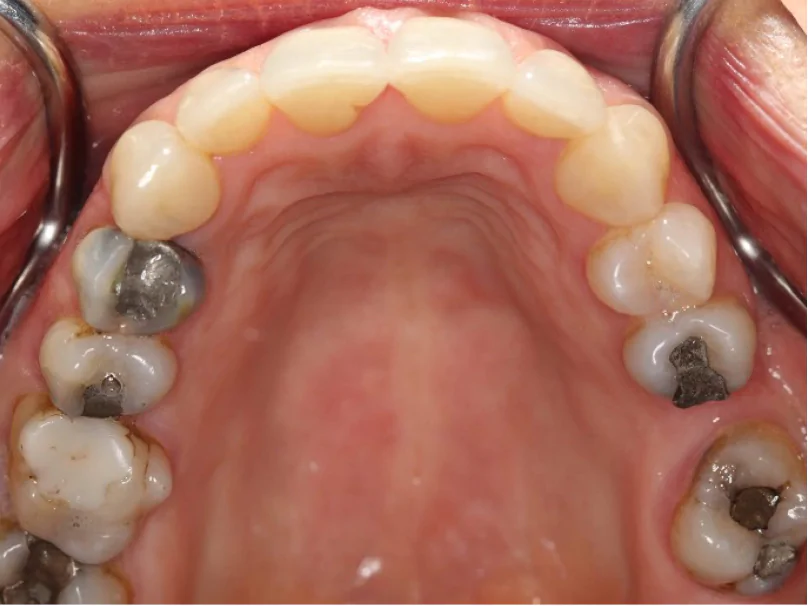UL1BC_healthy: (596, 222, 717, 309)
UL1M_decay: (668, 437, 808, 589)
UL2BC_decay: (627, 304, 752, 395)
ULCI_healthy: (388, 17, 512, 122)
ULC_healthy: (567, 120, 672, 219)
ULLI_healthy: (512, 55, 608, 140)
UR1BC_decay: (78, 237, 204, 328)
UR1M_decay: (13, 417, 169, 551)
UR2BC_decay: (43, 324, 178, 422)
URCI_healthy: (266, 26, 388, 130)
URC_healthy: (110, 120, 220, 228)
URLI_healthy: (183, 73, 267, 150)
